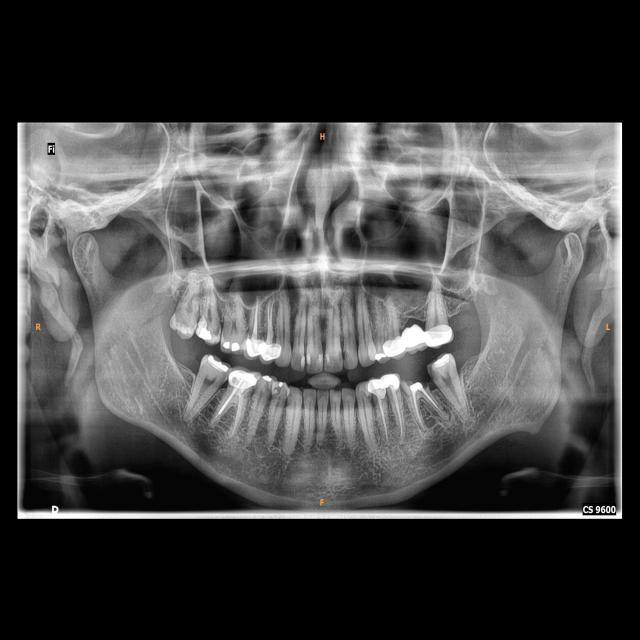dentin-curugu: (343, 350, 349, 362)
dolgu: (201, 352, 230, 374), (220, 334, 248, 356), (194, 318, 218, 343), (403, 378, 430, 396), (430, 353, 454, 369), (373, 348, 389, 362), (259, 374, 274, 386), (276, 379, 288, 391), (298, 354, 306, 370), (325, 351, 334, 365), (306, 350, 312, 365), (316, 352, 324, 362)
kanal-tedavisi: (217, 386, 246, 429), (390, 396, 408, 439), (410, 397, 440, 422), (376, 398, 395, 437), (261, 297, 277, 340), (250, 295, 262, 337)
kaplama: (422, 324, 454, 346), (231, 366, 257, 389), (369, 374, 400, 393), (242, 338, 265, 358), (383, 338, 406, 356), (260, 342, 281, 360)
kopru: (393, 318, 432, 354)
